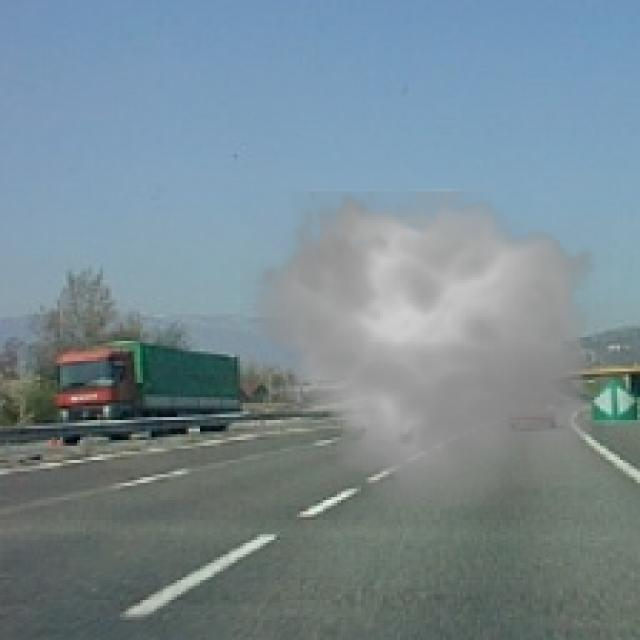smoke: (240, 174, 611, 520)
